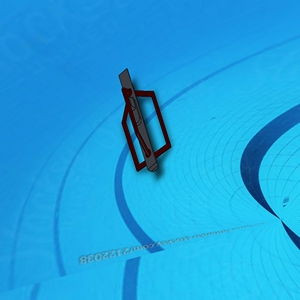submarine: (116, 71, 174, 172)
